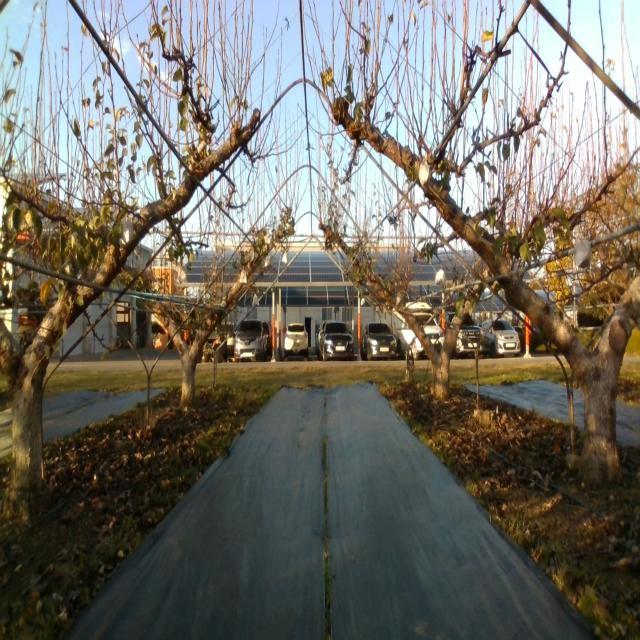pearbags: (573, 236, 592, 268), (418, 160, 432, 192), (120, 216, 133, 246), (434, 270, 446, 288)
